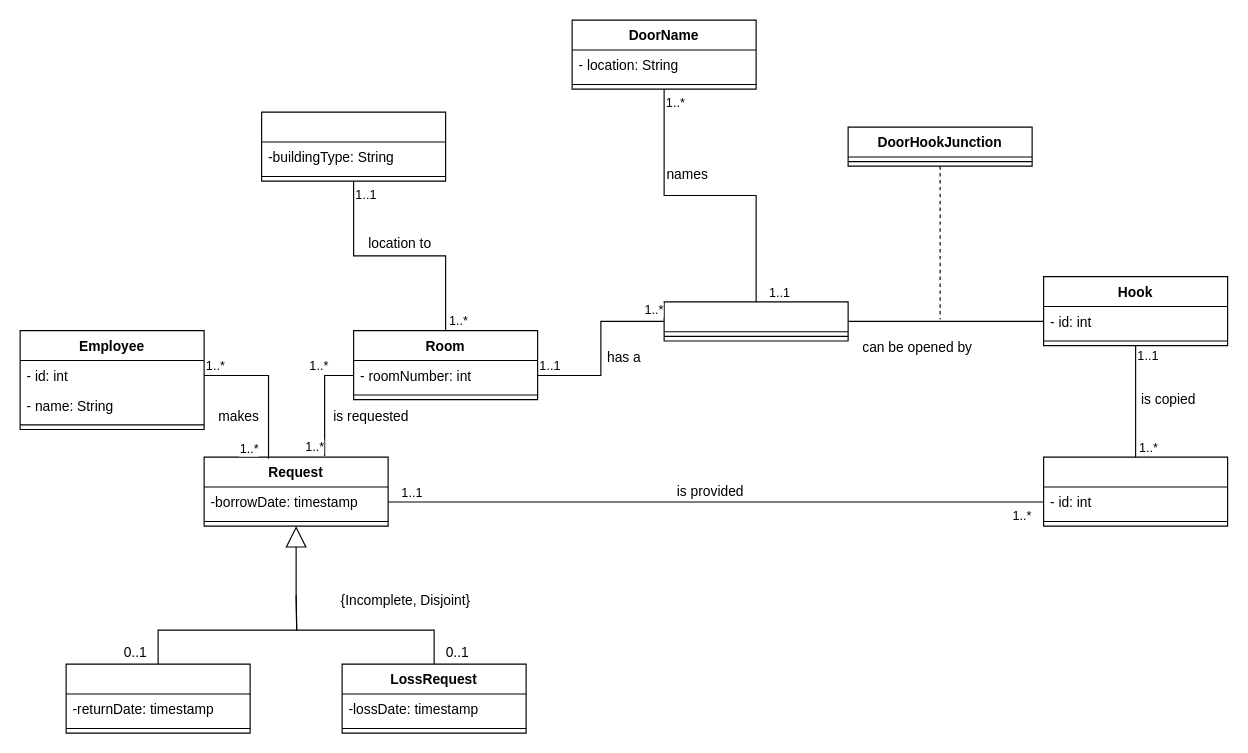
Image size: 1248x753. Some labels were removed from this diagram. The shapes that lost their labels are listed below. From the top down, each one's box as (x1, y1, x2, y2) in pixels, then its label:
(260, 111, 446, 181): BuildingLookUpTable
(663, 301, 848, 341): Door
(1042, 456, 1228, 526): KeyCopy
(65, 663, 250, 733): ReturnedRequest
